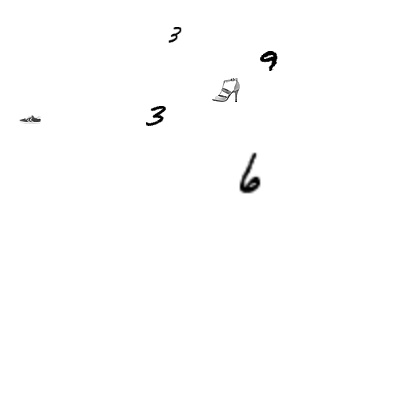3: (143, 101, 171, 129), (164, 23, 186, 45)
6: (220, 151, 276, 207)
9: (255, 44, 283, 72)
Sandal: (212, 76, 240, 104)
Sneaker: (19, 108, 41, 130)
